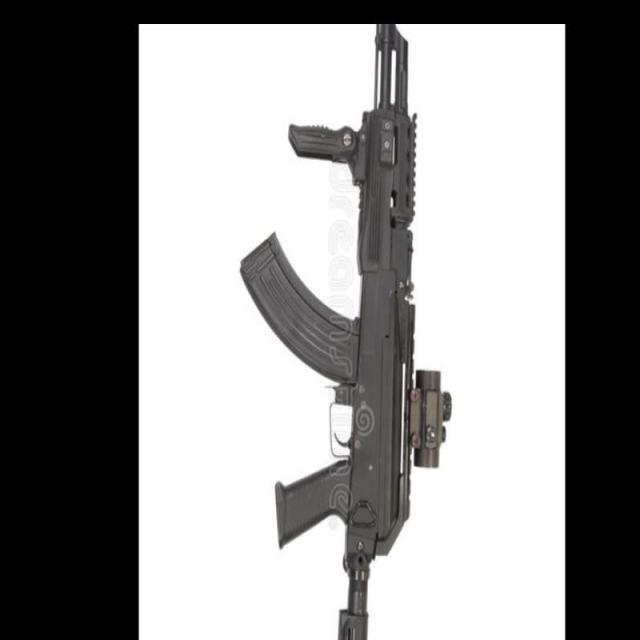weapon: (239, 24, 452, 640)
